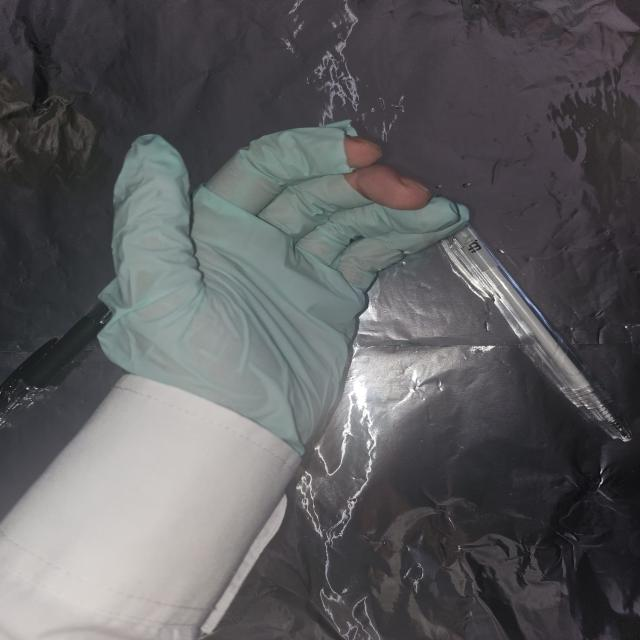gloves_damaged: (92, 114, 475, 451)
